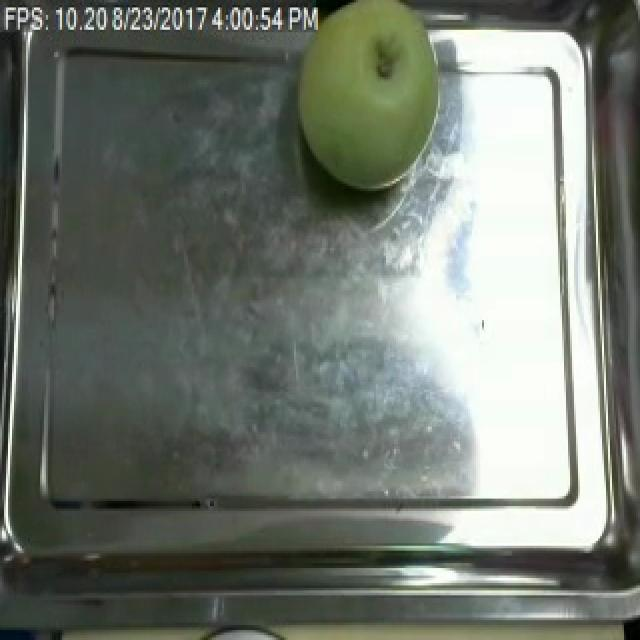50-_ripeness: (290, 0, 465, 202)
